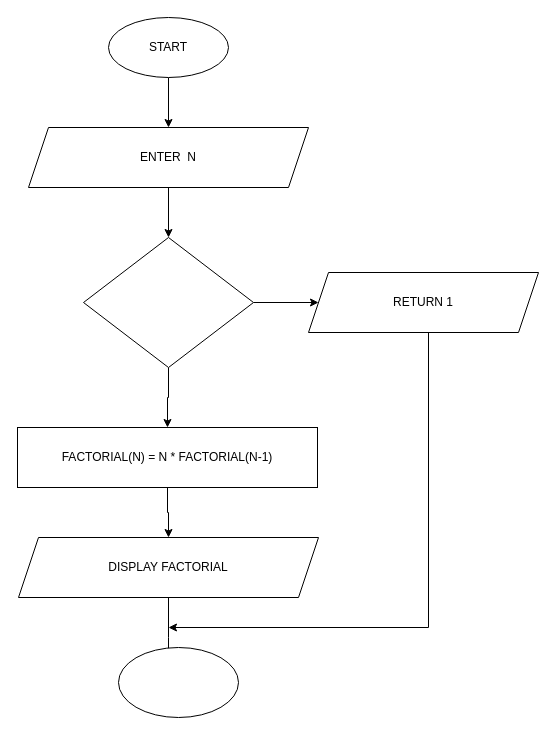
Some shapes in this 556 by 735 pixel diagram are drawn without their labels. The shapes that lost their labels are listed below. From the top down, each one's centre as x and y in pixels, then its label:
At [168,302]: "IS N == O".
At [178,682]: "STOP".
